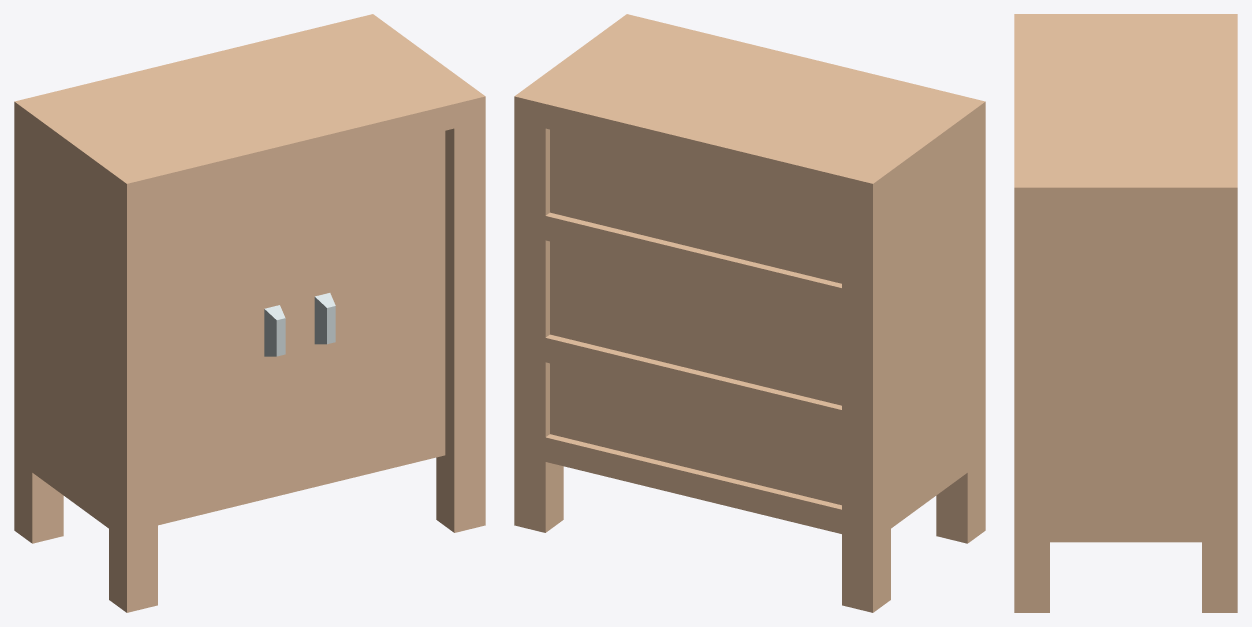
The model's file is armadietto.glb.
3 renders of one model, left to right at view 1: azimuth 30°, elevation 25°; view 2: azimuth 150°, elevation 25°; view 3: azimuth 270°, elevation 25°, orthographic.
Parts seen in each view (by area): view 1: bookcaseClosedDoors(Clone), doorRight, doorLeft; view 2: bookcaseClosedDoors(Clone); view 3: bookcaseClosedDoors(Clone).
Part boxes in pixels (<box>): bookcaseClosedDoors(Clone): <box>14,14,485,612</box>; doorRight: <box>297,131,445,478</box>; doorLeft: <box>158,167,297,512</box>; bookcaseClosedDoors(Clone): <box>514,14,985,612</box>; bookcaseClosedDoors(Clone): <box>1014,14,1237,612</box>.
Size of the model in its own units: 0.46 by 0.5257 by 0.25.
